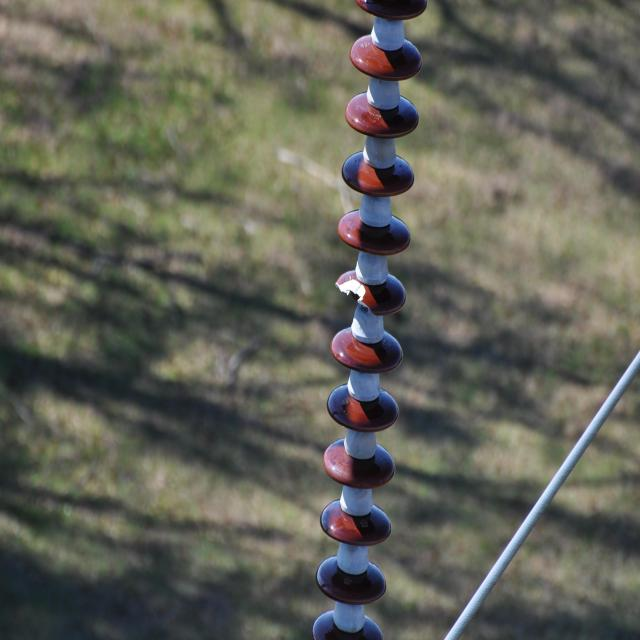broken: (332, 270, 383, 319)
insulator: (312, 0, 426, 640)
